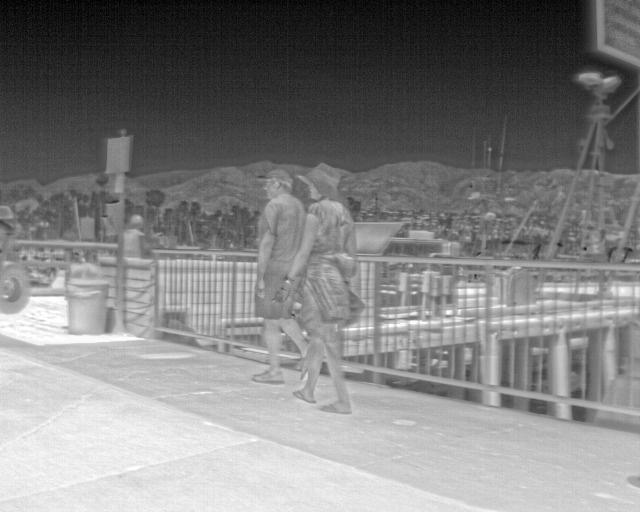bicycle: (0, 259, 31, 314)
empty: (282, 159, 356, 416), (249, 172, 305, 387)
